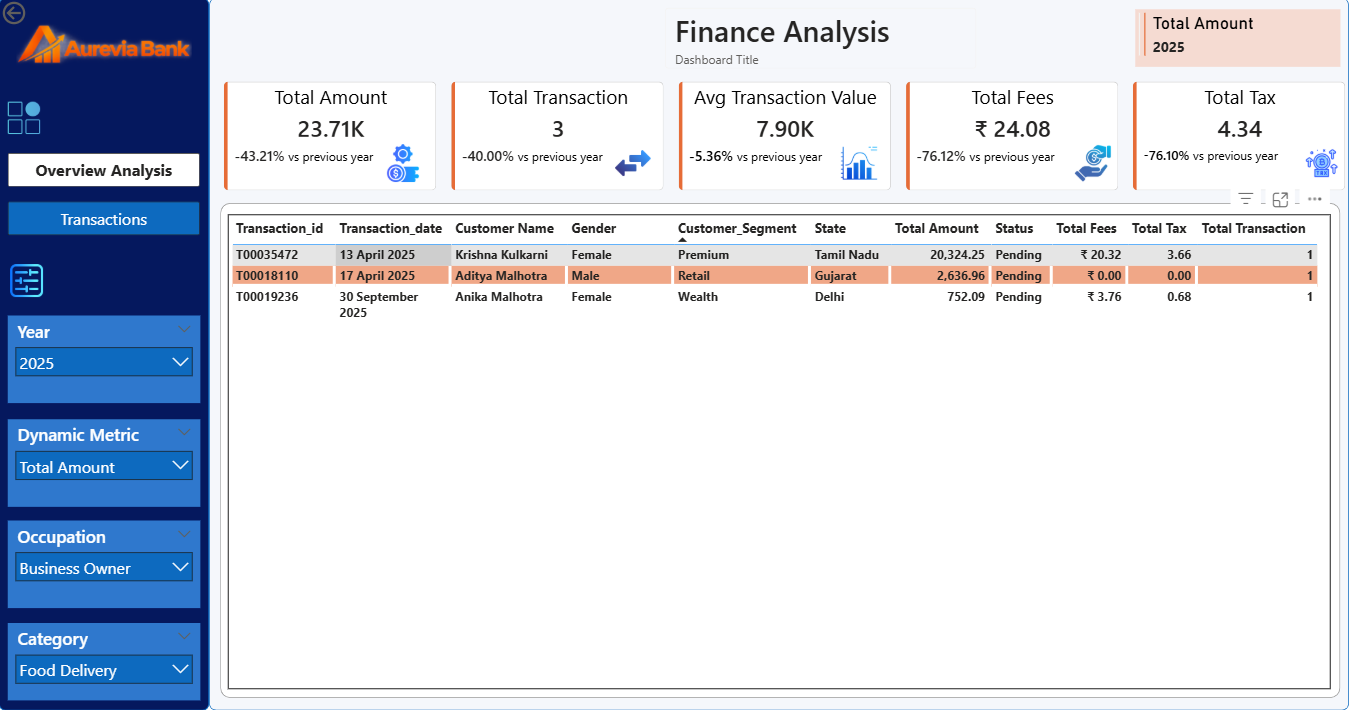

The dashboard page shown, as its layout file describes it:
{"tool":"powerbi","page":{"name":"Overview Analysis","canvas":[1800,950],"ordinal":0},"visuals":[{"type":"clusteredColumnChart","box":[454.4,122.2,280,280],"z":0},{"type":"shape","box":[0,0,280,950],"z":1000},{"type":"shape","box":[280,0,1520,950],"z":2000},{"type":"cardVisual","fields":{"Data":["finance_transactions.Dashboard Title"]},"box":[885,0,430,106.7],"z":3000},{"type":"cardVisual","fields":{"Data":["finance_transactions.Total Amount","calender Table.Total Transaction","calender Table.Avg Transaction Value","calender Table.Total Fees","calender Table.Total Tax"]},"box":[295,106.7,1505,155],"z":4000},{"type":"slicer","fields":{"Values":["calender Table.year"]},"box":[11.7,423.3,256.7,116.7],"z":5000},{"type":"image","box":[513.3,195,50,50],"z":6000},{"type":"image","box":[820,195,50,50],"z":7000},{"type":"image","box":[1738.3,195,50,50],"z":8000},{"type":"image","box":[1433.3,195,50,50],"z":9000},{"type":"image","box":[1118.3,195,56.7,50],"z":10000},{"type":"slicer","fields":{"Values":["Dynamic Metric.Dynamic Metric"]},"box":[11.7,561.7,256.7,116.7],"z":11000},{"type":"shape","box":[295,273.3,615,300],"z":12000},{"type":"areaChart","fields":{"Y":["finance_transactions.Total Amount"],"Category":["calender Table.Month"]},"box":[313.3,285,586.7,276.7],"z":13000},{"type":"multiRowCard","fields":{"Values":["Dynamic Metric.selected year","Dynamic Metric.Selected Dynamic Measure"]},"box":[1515,15,273.3,76.7],"z":14000},{"type":"shape","box":[928.3,273.3,415,300],"z":15000},{"type":"donutChart","fields":{"Y":["finance_transactions.Total Amount"],"Category":["finance_transactions.transaction_status"]},"box":[935,285,403.3,276.7],"z":16000},{"type":"shape","box":[1361.7,273.3,415,300],"z":17000},{"type":"clusteredBarChart","fields":{"Y":["finance_transactions.Total Amount"],"Category":["customers.customer_segment"]},"box":[1365,280,398.3,281.7],"z":18000},{"type":"shape","box":[295,590,550,330],"z":19000},{"type":"clusteredBarChart","fields":{"Y":["finance_transactions.Total Amount"],"Category":["customers.state"]},"box":[310,605,523.3,305],"z":20000},{"type":"shape","box":[861.7,590,481.7,330],"z":21000},{"type":"tableEx","title":"Transection Type Analysis","fields":{"Values":["finance_transactions.transaction_type","finance_transactions.Total Amount","calender Table.Total Fees","calender Table.Total Tax","calender Table.Total Transaction"]},"box":[865,605,473.3,305],"z":22000},{"type":"shape","box":[1361.7,590,415,330],"z":23000},{"type":"donutChart","fields":{"Y":["finance_transactions.Total Amount"],"Category":["customers.gender"]},"box":[1368.3,605,403.3,305],"z":24000},{"type":"image","box":[1061.7,408.3,75,50],"z":25000},{"type":"image","box":[1503.3,741.7,61.7,60],"z":26000},{"type":"slicer","fields":{"Values":["customers.occupation"]},"box":[11.7,696.7,256.7,116.7],"z":27000},{"type":"slicer","fields":{"Values":["finance_transactions.merchant_category"]},"box":[11.7,833.3,256.7,103.3],"z":28000},{"type":"pageNavigator","box":[11.7,206.7,256.7,110],"z":29000},{"type":"image","box":[23.3,15,233.3,91.7],"z":29001},{"type":"image","box":[11.7,351.7,50,50],"z":29002},{"type":"image","box":[11.7,135,43.3,50],"z":29003}]}

Visuals, with their boxes on the page's 1800x950 design canvas (x1, y1, x2, y2). These are canvas units, not pixel positions in the 1349x710 screenshot, which may show the page scaled, cropped or inside an application window:
clusteredColumnChart: left=454, top=122, right=734, bottom=402
shape: left=0, top=0, right=280, bottom=950
shape: left=280, top=0, right=1800, bottom=950
cardVisual - finance_transactions.Dashboard Title: left=885, top=0, right=1315, bottom=107
cardVisual - finance_transactions.Total Amount x calender Table.Total Transaction: left=295, top=107, right=1800, bottom=262
slicer - calender Table.year: left=12, top=423, right=268, bottom=540
image: left=513, top=195, right=563, bottom=245
image: left=820, top=195, right=870, bottom=245
image: left=1738, top=195, right=1788, bottom=245
image: left=1433, top=195, right=1483, bottom=245
image: left=1118, top=195, right=1175, bottom=245
slicer - Dynamic Metric.Dynamic Metric: left=12, top=562, right=268, bottom=678
shape: left=295, top=273, right=910, bottom=573
areaChart - finance_transactions.Total Amount x calender Table.Month: left=313, top=285, right=900, bottom=562
multiRowCard - Dynamic Metric.selected year x Dynamic Metric.Selected Dynamic Measure: left=1515, top=15, right=1788, bottom=92
shape: left=928, top=273, right=1343, bottom=573
donutChart - finance_transactions.Total Amount x finance_transactions.transaction_status: left=935, top=285, right=1338, bottom=562
shape: left=1362, top=273, right=1777, bottom=573
clusteredBarChart - finance_transactions.Total Amount x customers.customer_segment: left=1365, top=280, right=1763, bottom=562
shape: left=295, top=590, right=845, bottom=920
clusteredBarChart - finance_transactions.Total Amount x customers.state: left=310, top=605, right=833, bottom=910
shape: left=862, top=590, right=1343, bottom=920
"Transection Type Analysis" tableEx: left=865, top=605, right=1338, bottom=910
shape: left=1362, top=590, right=1777, bottom=920
donutChart - finance_transactions.Total Amount x customers.gender: left=1368, top=605, right=1772, bottom=910
image: left=1062, top=408, right=1137, bottom=458
image: left=1503, top=742, right=1565, bottom=802
slicer - customers.occupation: left=12, top=697, right=268, bottom=813
slicer - finance_transactions.merchant_category: left=12, top=833, right=268, bottom=937
pageNavigator: left=12, top=207, right=268, bottom=317
image: left=23, top=15, right=257, bottom=107
image: left=12, top=352, right=62, bottom=402
image: left=12, top=135, right=55, bottom=185
